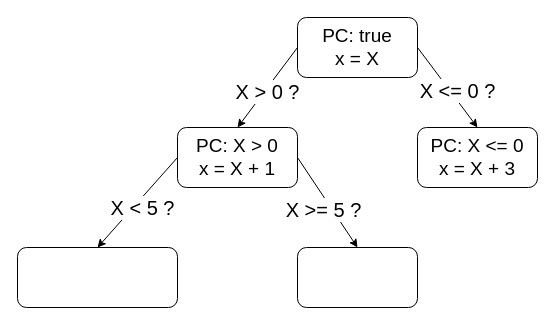
Some shapes in this 555 by 329 pixel diagram are drawn without their labels. The box of each missing label's shape, as (x1, y1, x2, y2) in pixels:
PC: X > 0 && X < 5 x = X + 1: (16, 246, 178, 308)
PC: X >= 5 x = X + 2: (296, 246, 418, 308)
